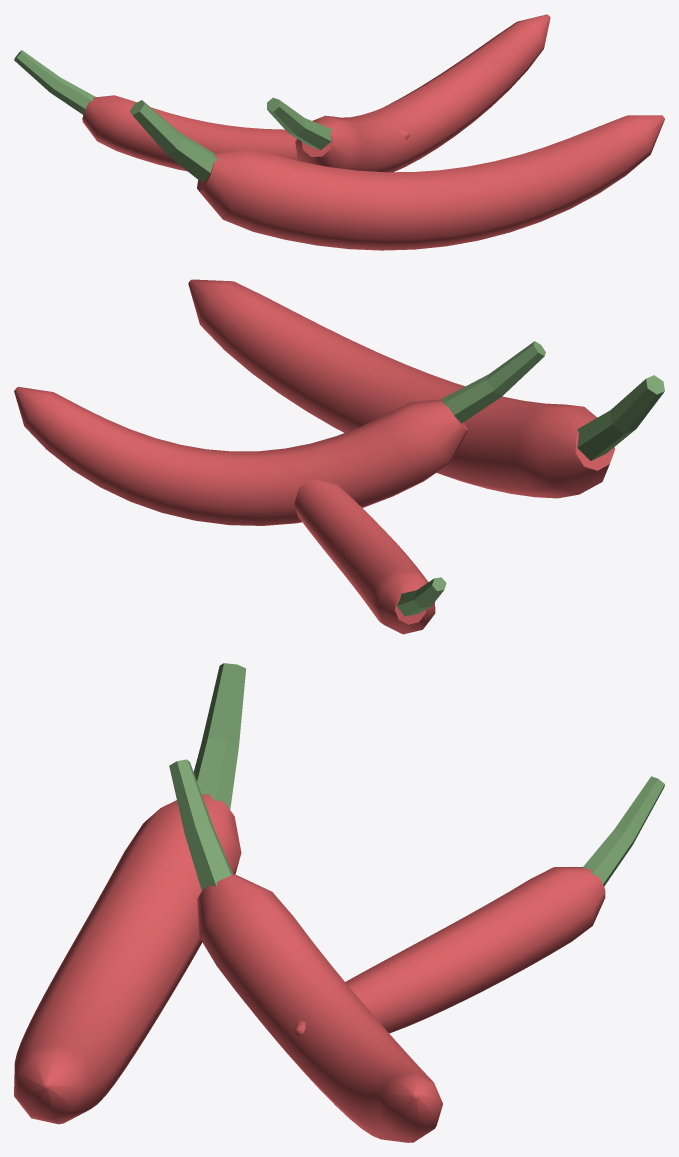
Rendered from fresh-produce-and-groceries-chilli-peppers-5fabd500__24380.glb.
The picture shows the model from 3 angles, top to bottom: view 1: azimuth 30°, elevation 25°; view 2: azimuth 150°, elevation 25°; view 3: azimuth 270°, elevation 25°; orthographic projection. The views are drawn at different scales.
Parts seen in each view (by area): view 1: chilli-peppers; view 2: chilli-peppers; view 3: chilli-peppers.
Part boxes in pixels (left/top/right/bottom): chilli-peppers: left=14, top=14, right=664, bottom=250; chilli-peppers: left=14, top=279, right=664, bottom=634; chilli-peppers: left=14, top=663, right=664, bottom=1142.
Size of the model in its own units: 0.1333 by 0.0437 by 0.1104.
